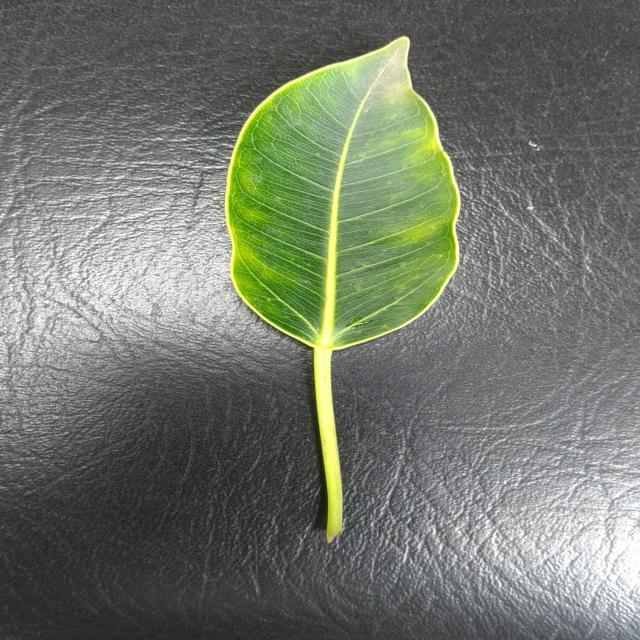camphor: (227, 38, 460, 540)
